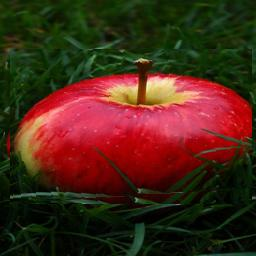Apple Fresh: (10, 50, 252, 205)
